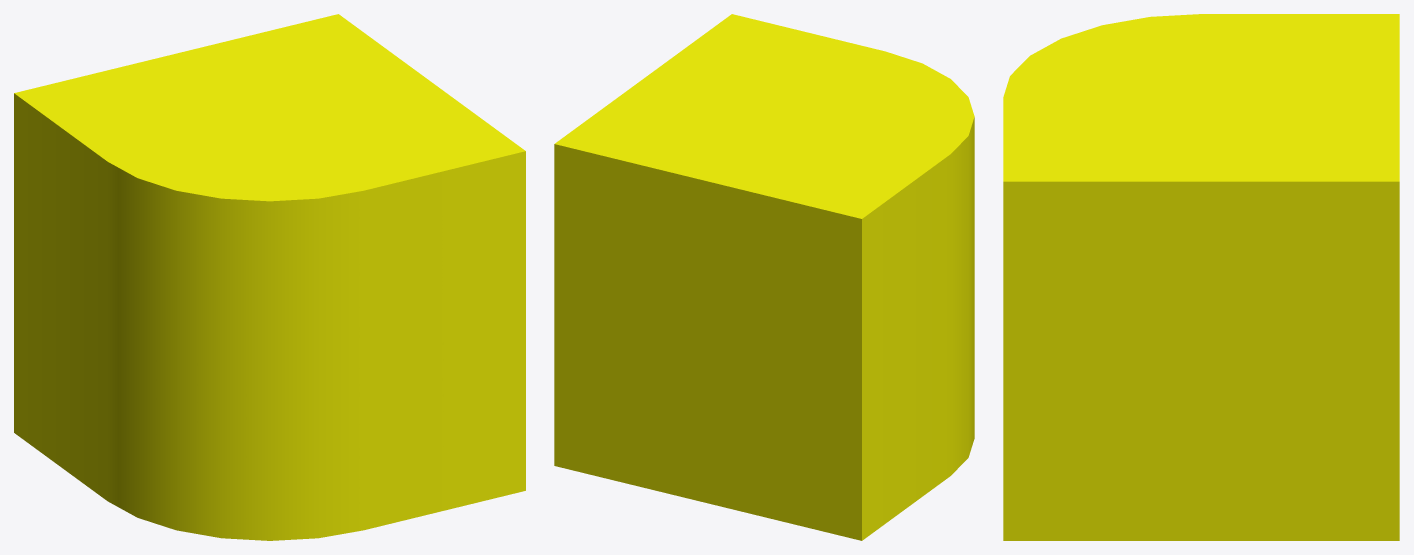
File: kaykit-terrain-tall-curved.glb
3 renders of one model, left to right at view 1: azimuth 30°, elevation 25°; view 2: azimuth 150°, elevation 25°; view 3: azimuth 270°, elevation 25°, orthographic. The views are drawn at different scales.
Visible parts, largest first — view 1: terrain_tall_curved; view 2: terrain_tall_curved; view 3: terrain_tall_curved.
Boxes of the visible parts, x1,y1,x2,y2 form: terrain_tall_curved: [14, 14, 525, 540]; terrain_tall_curved: [554, 14, 974, 540]; terrain_tall_curved: [1003, 14, 1399, 540].
Bounding box in the file's own units: 2 × 2 × 2.
